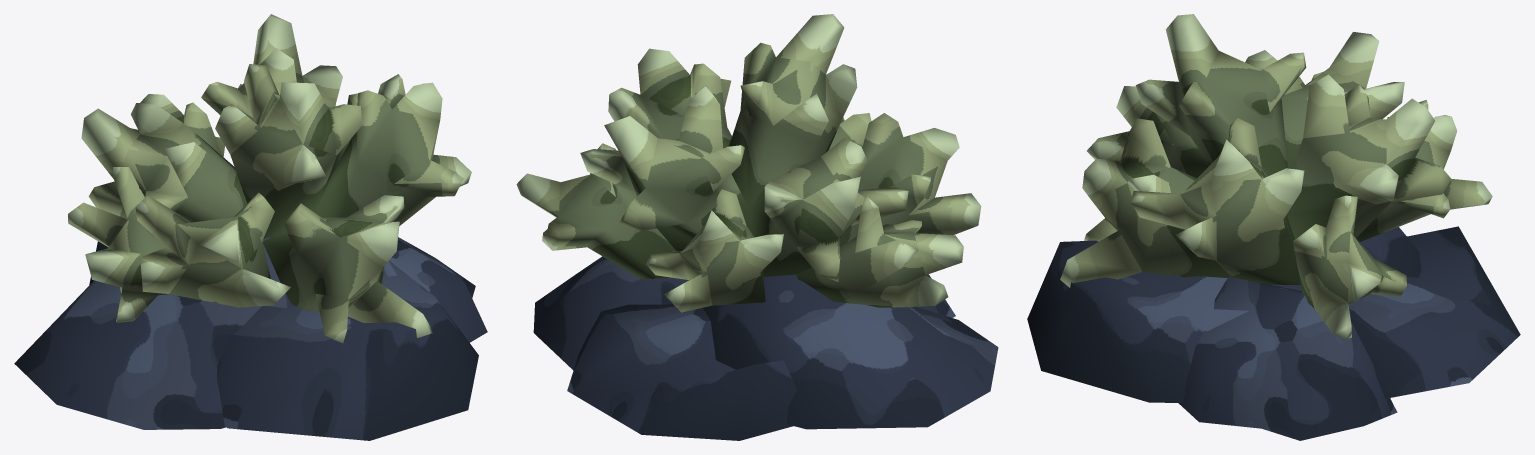
Rendered from Clubbed Finger Coral 2_preview_3DS_simplified.glb.
The picture shows the model from 3 angles, left to right: view 1: azimuth 30°, elevation 25°; view 2: azimuth 150°, elevation 25°; view 3: azimuth 270°, elevation 25°; orthographic projection.
Visible parts, largest first — view 1: Marine Park Empire model; view 2: Marine Park Empire model; view 3: Marine Park Empire model.
Part boxes in pixels (<box>): Marine Park Empire model: <box>14,14,487,440</box>; Marine Park Empire model: <box>516,14,998,440</box>; Marine Park Empire model: <box>1027,14,1520,440</box>.
Bounding box in the file's own units: 69.81 × 49.26 × 67.38.
Materials: 2 (2 with a texture image).
